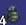grenade: (1, 1, 26, 25)
